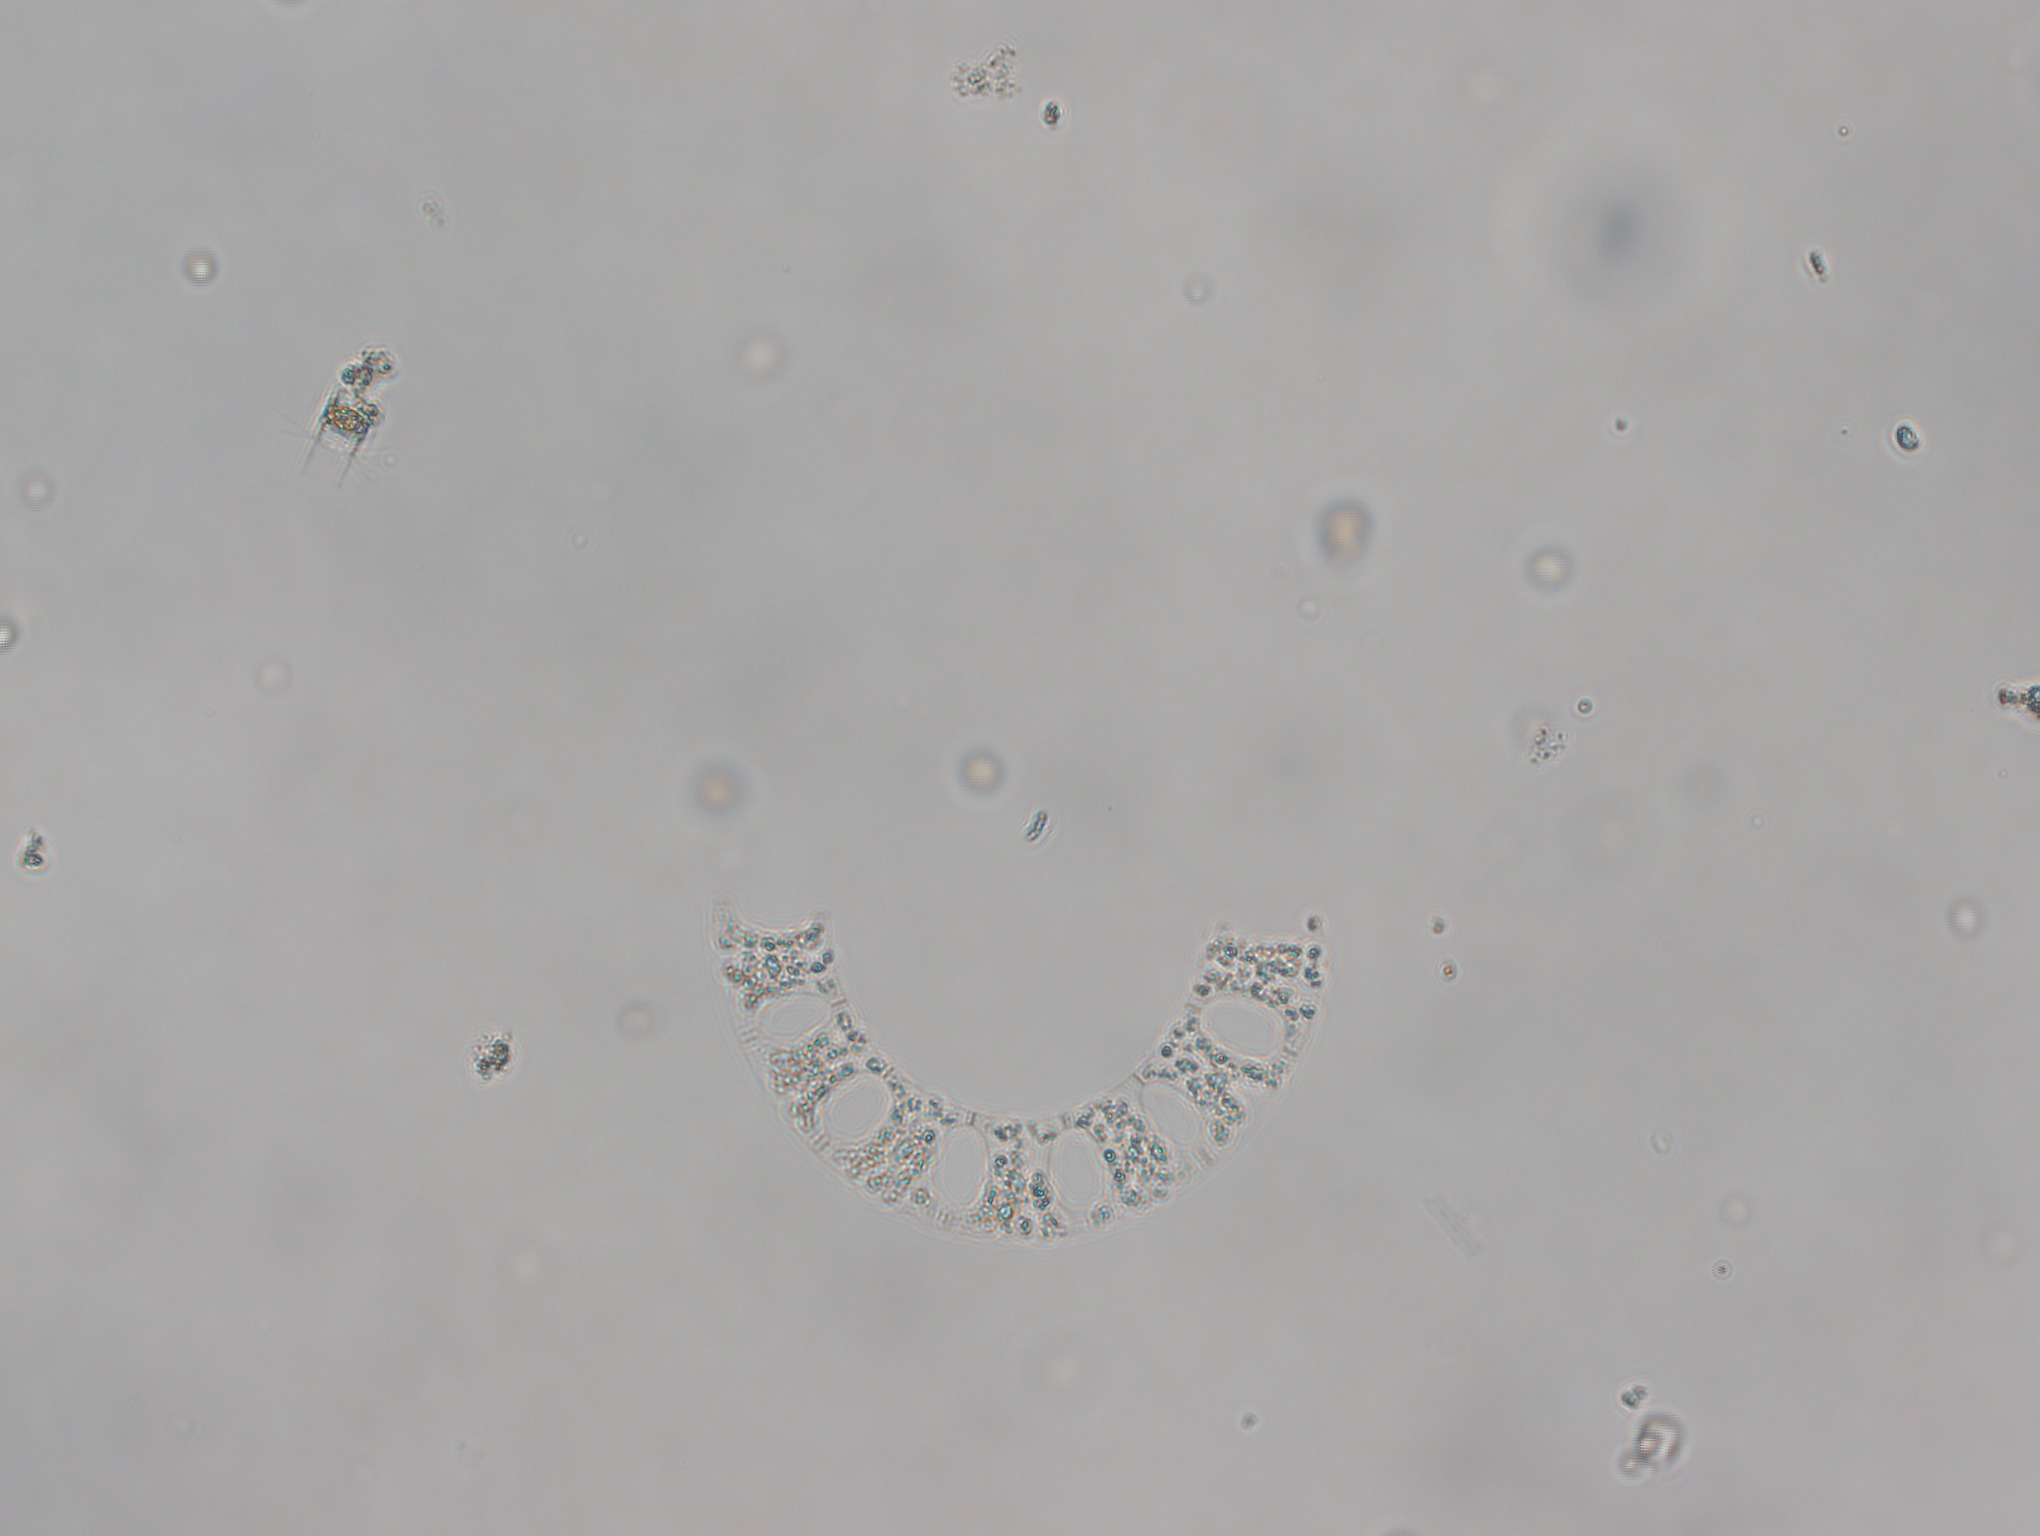eucampia: (681, 900, 1342, 1247)
